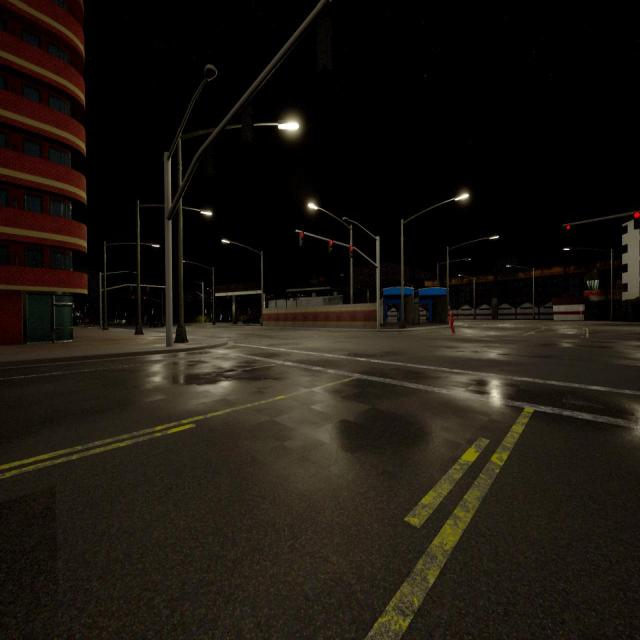Pedestrian: (449, 307, 454, 334)
Traffic_Signs: (580, 307, 582, 310)
Vehicle: (242, 314, 259, 324), (150, 320, 164, 328)
traffic_light: (316, 13, 329, 61), (243, 102, 252, 140), (633, 211, 640, 228), (299, 232, 304, 246), (328, 240, 332, 252), (349, 246, 353, 257), (566, 225, 571, 230), (130, 286, 132, 290), (147, 287, 149, 291), (132, 296, 134, 299), (144, 297, 145, 299)
